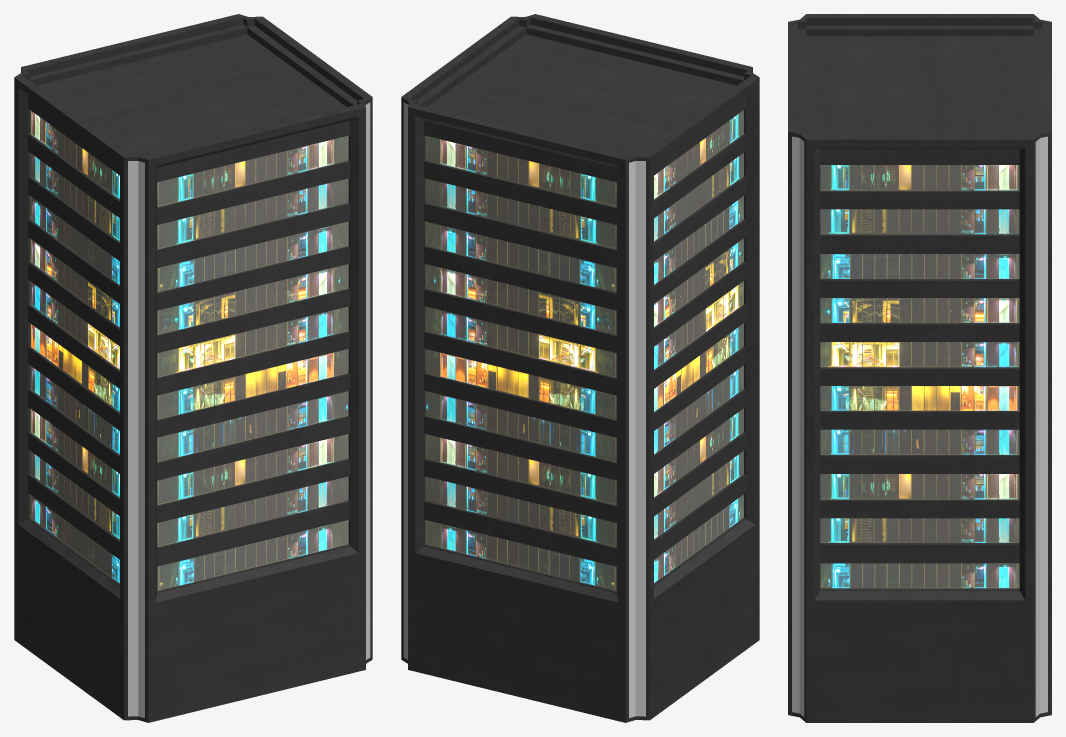
The model's file is Build 30.fbx.
3 renders of one model, left to right at view 1: azimuth 30°, elevation 25°; view 2: azimuth 150°, elevation 25°; view 3: azimuth 270°, elevation 25°, orthographic. The views are drawn at different scales.
Visible parts, largest first — view 1: Cube.047; view 2: Cube.047; view 3: Cube.047.
Boxes of the visible parts, box(x1,y1,x2,y2) form: Cube.047: box(14, 14, 372, 722); Cube.047: box(401, 14, 759, 722); Cube.047: box(788, 14, 1051, 722).
Size of the model in its own units: 2787 by 6027 by 2470.
Materials: 3 (1 with a texture image).
